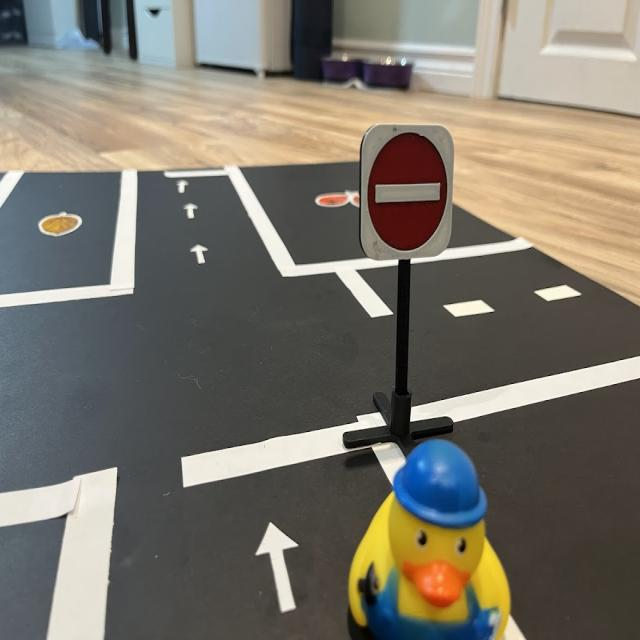duck_specialty: (348, 442, 524, 640)
road_oneway: (256, 516, 305, 621), (188, 238, 213, 272), (184, 198, 201, 225), (175, 179, 192, 198)
sign_noentry: (361, 128, 452, 257)
